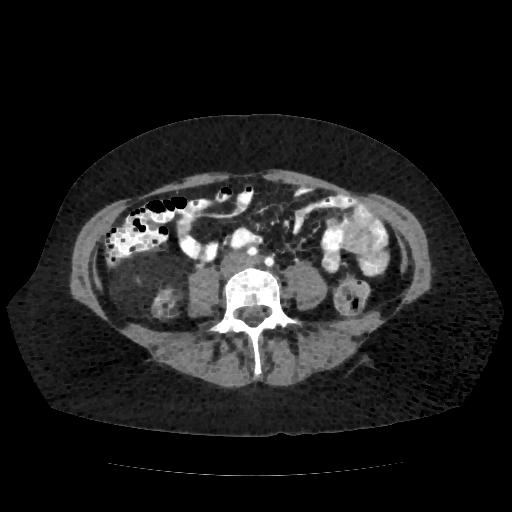Lesion: (101, 260, 191, 321)
